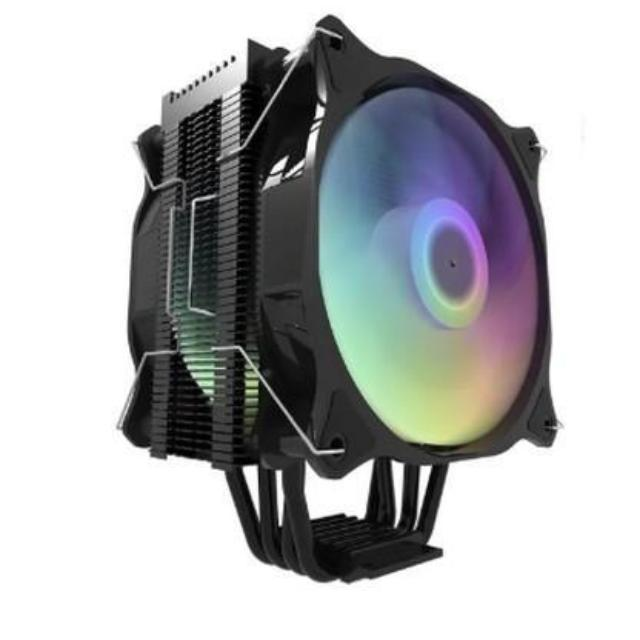CPU_Fan: (100, 7, 568, 598)
